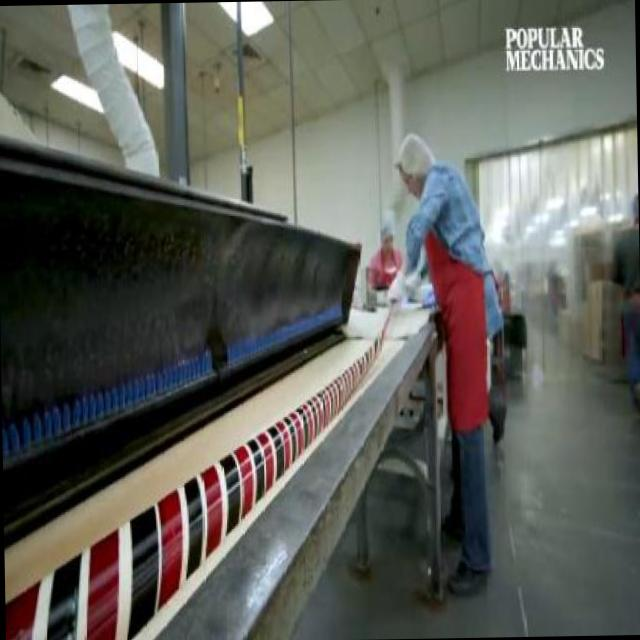hairnet: (398, 134, 436, 176)
